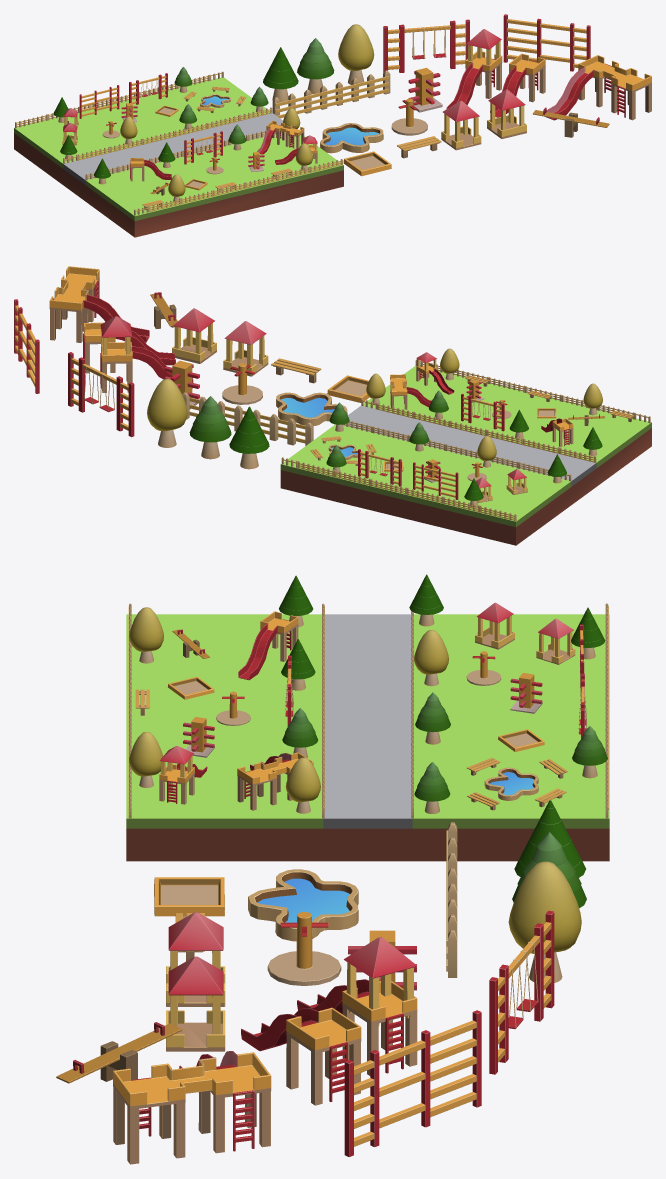
The model's file is playground.fbx.
The picture shows the model from 3 angles, top to bottom: view 1: azimuth 30°, elevation 25°; view 2: azimuth 150°, elevation 25°; view 3: azimuth 270°, elevation 25°; orthographic projection. The views are drawn at different scales.
Visible parts, largest first — view 1: Cube.035, Cube.014, Cube.001, Cube.019, Cube.024, Cube.020, Mball.001, Sphere.001, Cube.017, Cube.015, Cube.016, Cone.003 (+6 smaller); view 2: Cube.035, Cube.014, Cube.020, Cube.001, Sphere.001, Cube.024, Cube.015, Mball.001, Cube.016, Cone.003, Cone.002, Cube.019 (+6 smaller); view 3: Cube.035, Cube.014, Cube.019, Cube.001, Cube.017, Mball.001, Cube.020, Sphere.001, Cube.015, Circle.001, Cube.016, sandbox.001 (+4 smaller).
Boxes of the visible parts, <box> form: Cube.035: <box>14,67,343,237</box>; Cube.014: <box>546,55,651,120</box>; Cube.001: <box>446,29,502,108</box>; Cube.019: <box>503,14,590,71</box>; Cube.024: <box>272,70,390,118</box>; Cube.020: <box>383,19,469,72</box>; Mball.001: <box>320,123,383,153</box>; Sphere.001: <box>338,24,374,84</box>; Cube.017: <box>490,53,545,117</box>; Cube.015: <box>487,89,526,138</box>; Cube.016: <box>441,100,481,150</box>; Cone.003: <box>297,38,334,94</box>; Cube.035: <box>280,348,651,545</box>; Cube.014: <box>49,266,149,342</box>; Cube.020: <box>68,352,134,437</box>; Cube.001: <box>100,316,193,392</box>; Sphere.001: <box>147,379,187,447</box>; Cube.024: <box>182,392,313,445</box>; Cube.015: <box>172,308,216,363</box>; Mball.001: <box>276,392,347,425</box>; Cube.016: <box>223,321,268,376</box>; Cone.003: <box>189,396,231,459</box>; Cone.002: <box>229,406,269,469</box>; Cube.019: <box>14,299,39,393</box>; Cube.035: <box>126,574,609,861</box>; Cube.014: <box>113,1051,271,1164</box>; Cube.019: <box>344,1010,481,1156</box>; Cube.001: <box>297,937,417,1075</box>; Cube.017: <box>241,1007,361,1105</box>; Mball.001: <box>248,869,358,941</box>; Cube.020: <box>489,910,554,1074</box>; Sphere.001: <box>508,861,581,982</box>; Cube.015: <box>166,956,225,1051</box>; Circle.001: <box>267,912,341,985</box>; Cube.016: <box>166,912,225,1006</box>; sandbox.001: <box>154,877,224,916</box>.
Size of the model in its own units: 6881 by 786 by 3181.
